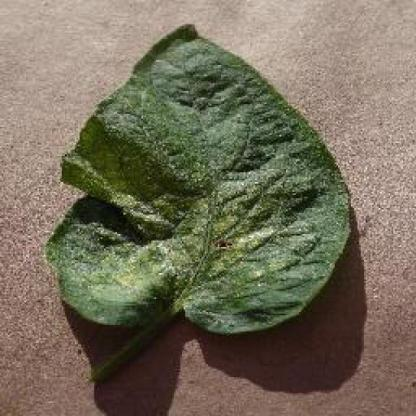Tomato_Spider_Mites: (44, 24, 350, 332)
